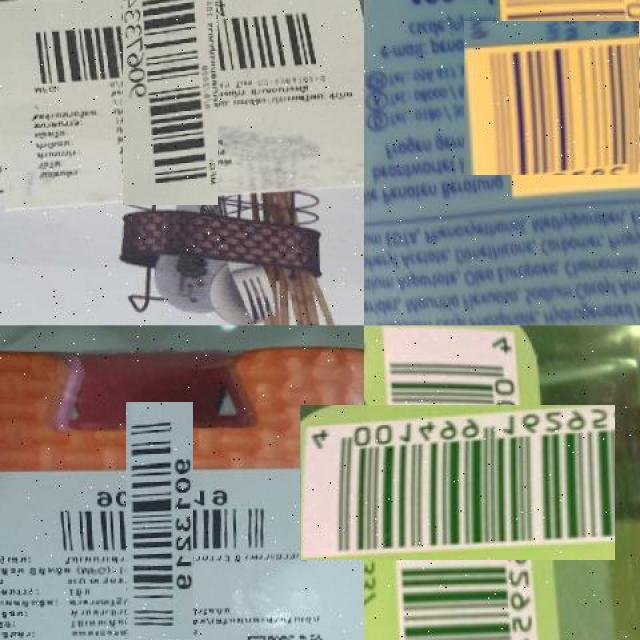Barcode: (340, 365, 576, 600), (68, 0, 272, 149), (474, 10, 640, 186), (83, 445, 236, 599)
